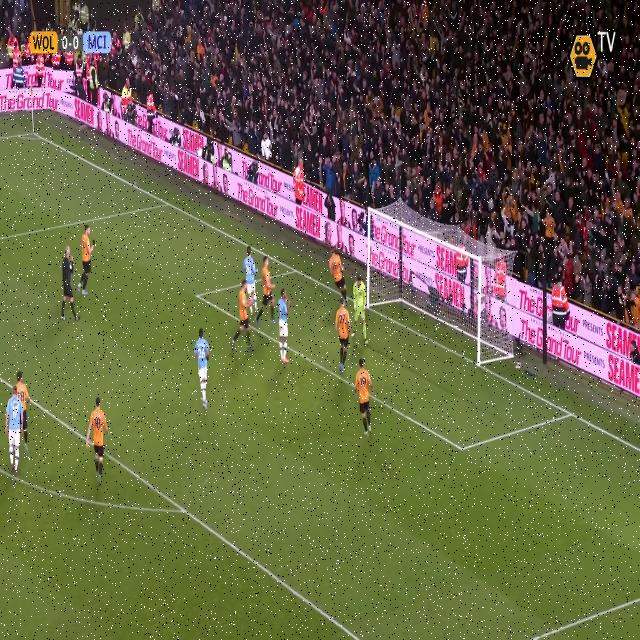GoalKeeper: (354, 276, 369, 342)
TEAM 1: (83, 396, 108, 485), (354, 361, 374, 438), (335, 300, 353, 374), (232, 279, 250, 352), (80, 225, 96, 295), (328, 252, 348, 303), (261, 253, 273, 320), (11, 372, 29, 412)
TEAM 2: (6, 385, 29, 475), (192, 330, 211, 415), (274, 288, 292, 363), (243, 246, 258, 312)
